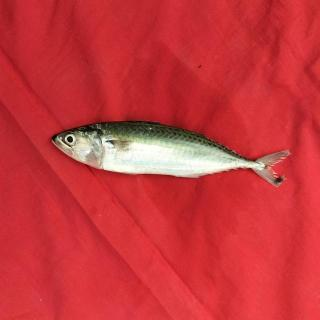Ikan: (38, 100, 300, 208)
